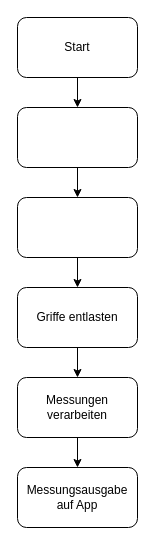
Image size: 155x545. Some labels were removed from this diagram. Each missing label, with the centre of its shape:
Griffe belasten: the point at 77,137
Zeit- / Belastungsmessung starten: the point at 77,227
